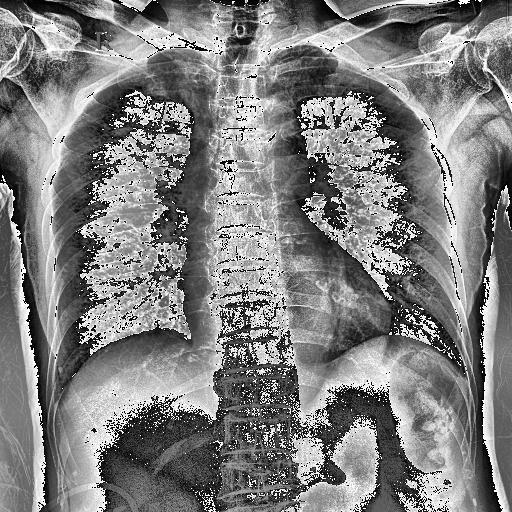2- Calcification: (256, 122, 294, 152), (52, 362, 69, 376)
5- ILD: (272, 50, 456, 385), (48, 48, 192, 394), (303, 66, 455, 356), (42, 99, 180, 340), (78, 93, 178, 332), (318, 82, 428, 286)
8- Nodule-Mass: (78, 93, 178, 332), (318, 82, 428, 286), (96, 119, 138, 148)
